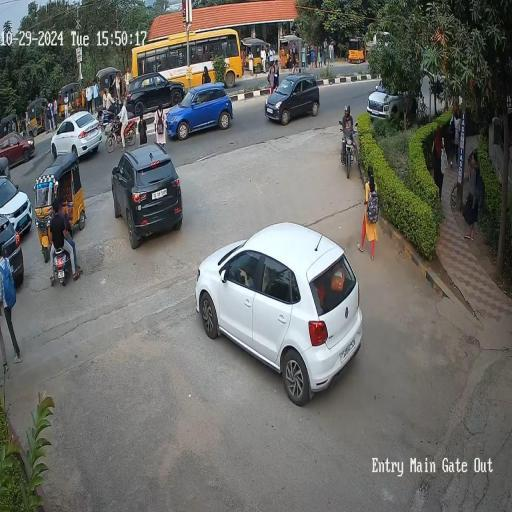helmet: (340, 106, 355, 129), (113, 98, 128, 117)
triple riding: (46, 192, 83, 279)
